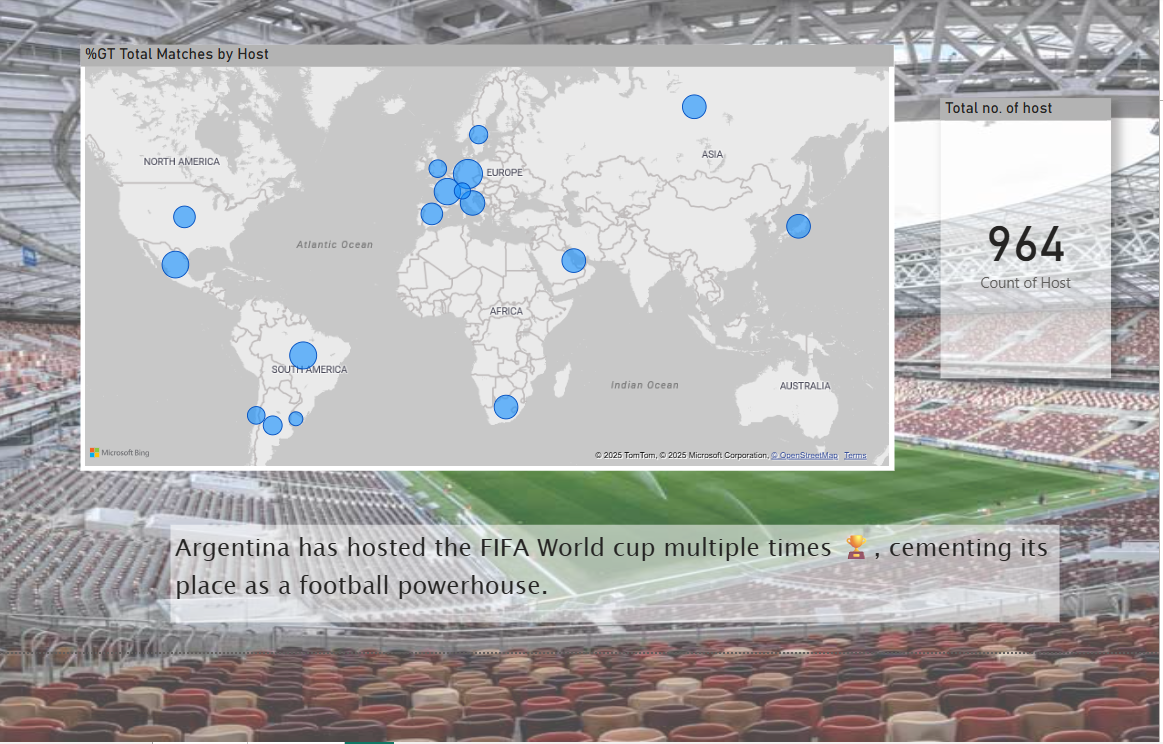

The dashboard page shown, as its layout file describes it:
{"tool":"powerbi","page":{"name":"Page 2","canvas":[1280,720],"ordinal":1},"visuals":[{"type":"map","fields":{"Category":["matches_1930_2022.Host"],"Size":["fifa_ranking_2022-10-06.Total Matches"]},"box":[95.7,52.9,892.9,467.1],"z":0},{"type":"card","title":"Total no. of host","fields":{"Values":["CountNonNull(matches_1930_2022.Host)"]},"box":[1040,112.9,187.1,307.1],"z":1},{"type":"textbox","box":[194.3,580,975.7,107.1],"z":2}]}

Visuals, with their boxes in screenshot pixels (x1, y1, x2, y2):
map - matches_1930_2022.Host x fifa_ranking_2022-10-06.Total Matches: rect(59, 34, 888, 468)
"Total no. of host" card: rect(936, 90, 1110, 375)
textbox: rect(150, 524, 1057, 623)
